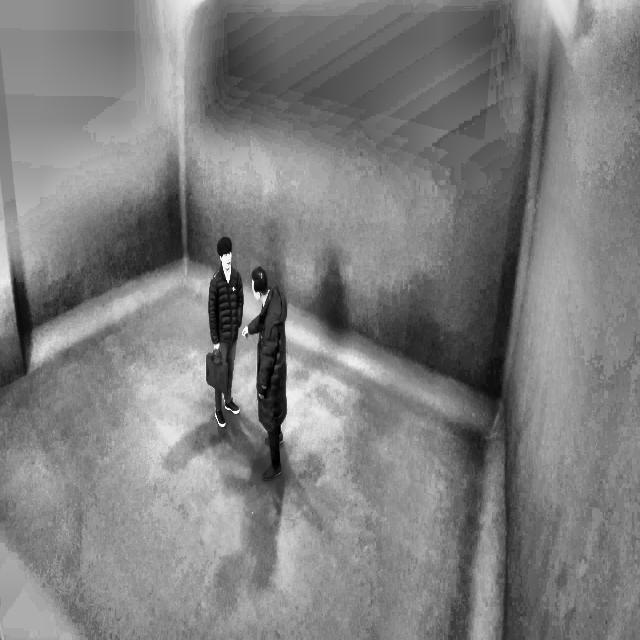assult: (204, 224, 306, 480)
